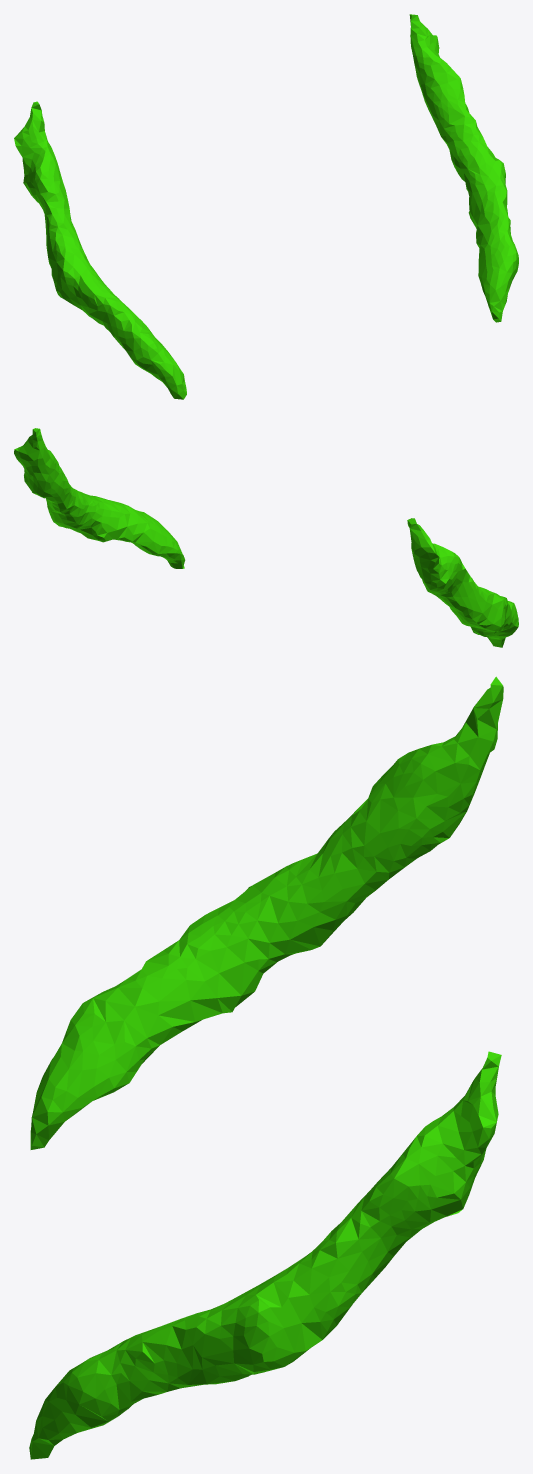
The model's file is 138-PGa-area PG associated region of the superior temporal sulcus-('0.2667', '1.0000', '0.0000').obj.
3 renders of one model, top to bottom at view 1: azimuth 30°, elevation 25°; view 2: azimuth 150°, elevation 25°; view 3: azimuth 270°, elevation 25°, orthographic. The views are drawn at different scales.
Size of the model in its own units: 249 by 118 by 115.
